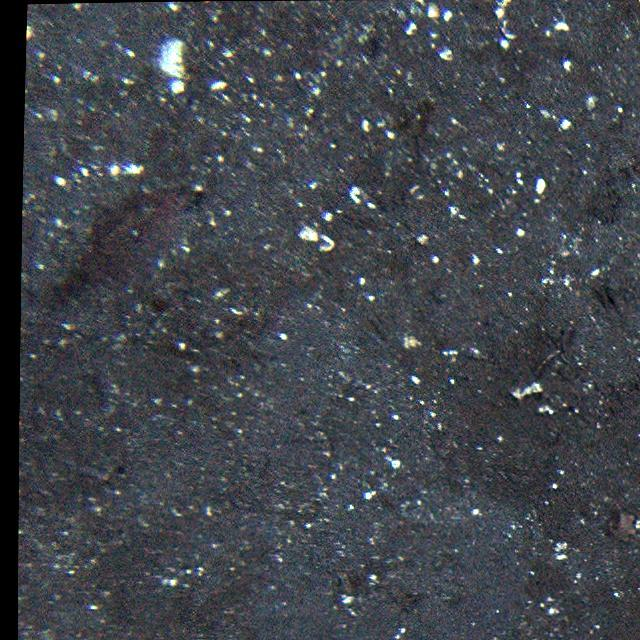flatfish: (56, 182, 202, 304)
